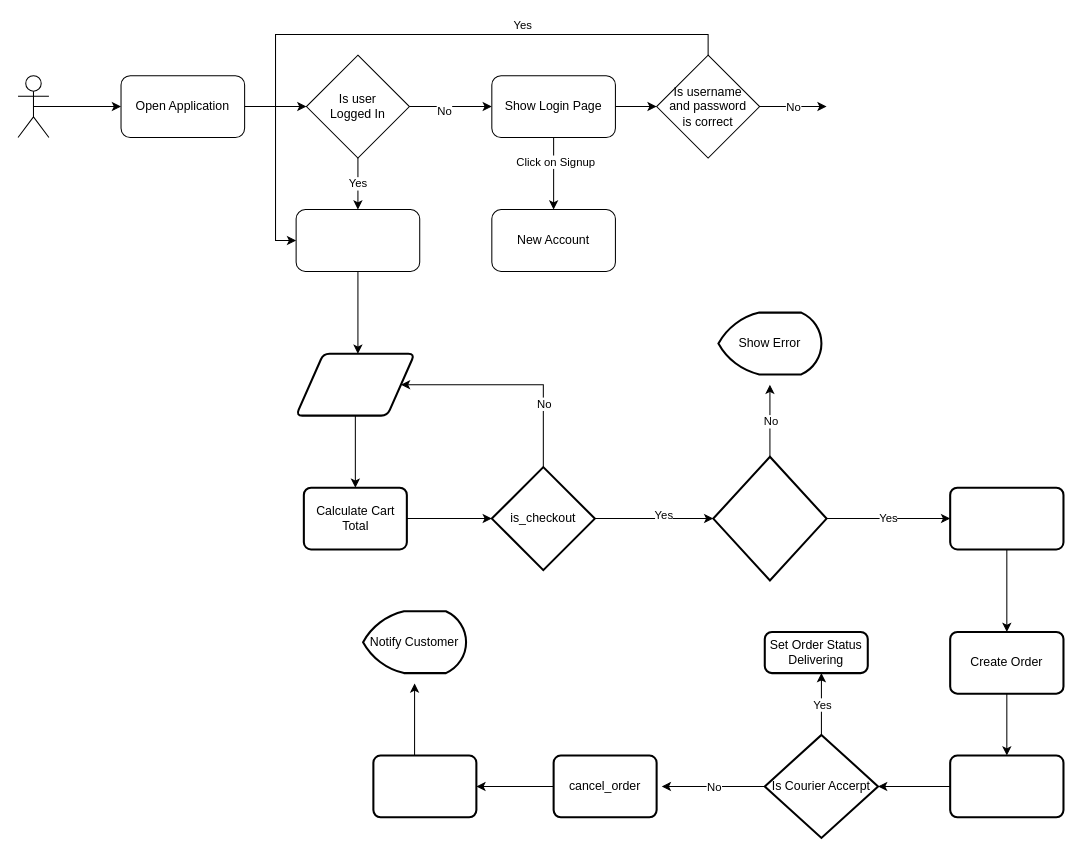
This 1083x856 diagram has some shape labels left out. Each missing label, with the box of its shape:
Actor: (17, 75, 49, 138)
is_wallet_amoun t_enough: (712, 455, 827, 581)
payback_to_user update_to_wallet: (372, 754, 477, 818)
Process Payment: (949, 486, 1064, 550)
Select Item Add To Cart: (295, 352, 415, 416)
Send Order To Courier: (949, 754, 1064, 818)
Show Home Page: (295, 209, 420, 271)
